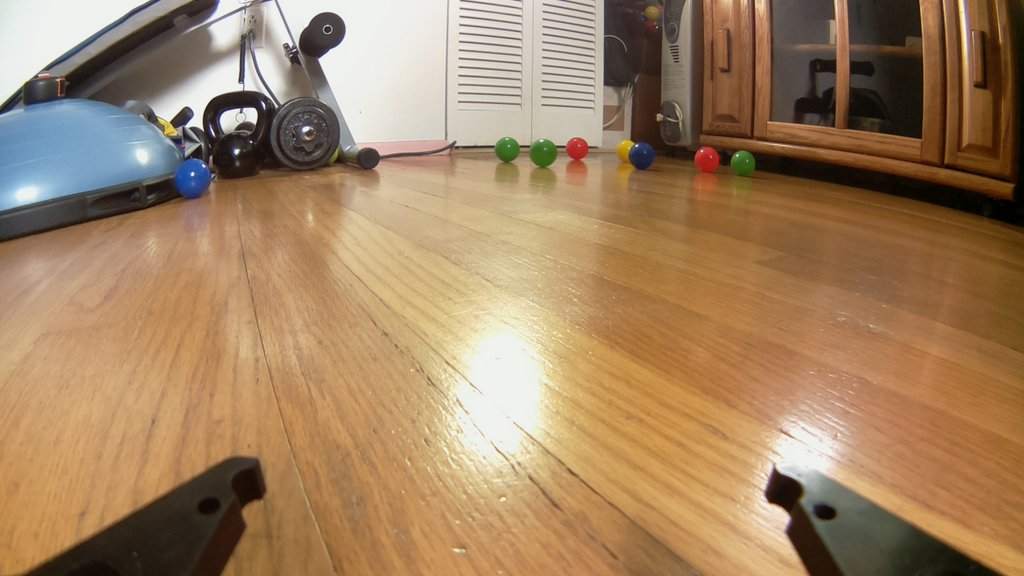ball: (614, 138, 639, 164)
